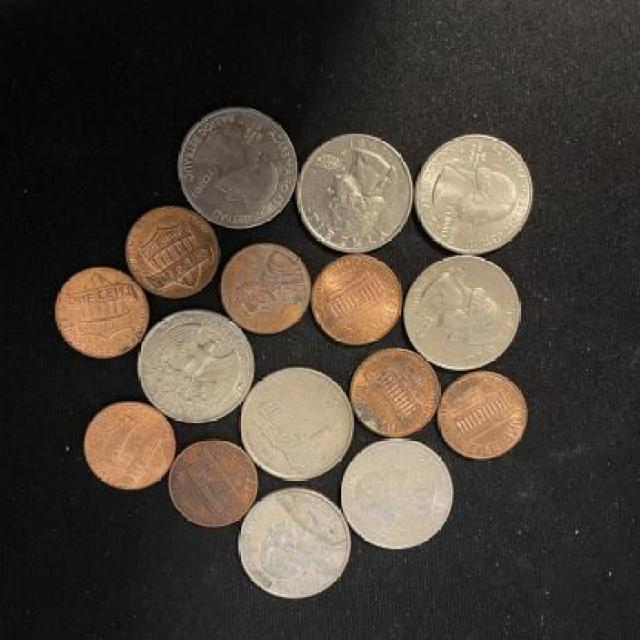Penny: (218, 234, 312, 336), (56, 263, 152, 362), (163, 434, 262, 530), (309, 248, 402, 350), (438, 365, 532, 463), (123, 208, 220, 300), (351, 343, 440, 442), (84, 397, 176, 491)
Quarter: (410, 131, 536, 257), (174, 103, 300, 229), (296, 130, 416, 258), (400, 254, 522, 374), (337, 434, 457, 554), (240, 360, 354, 485), (138, 308, 255, 427), (237, 488, 351, 608)
